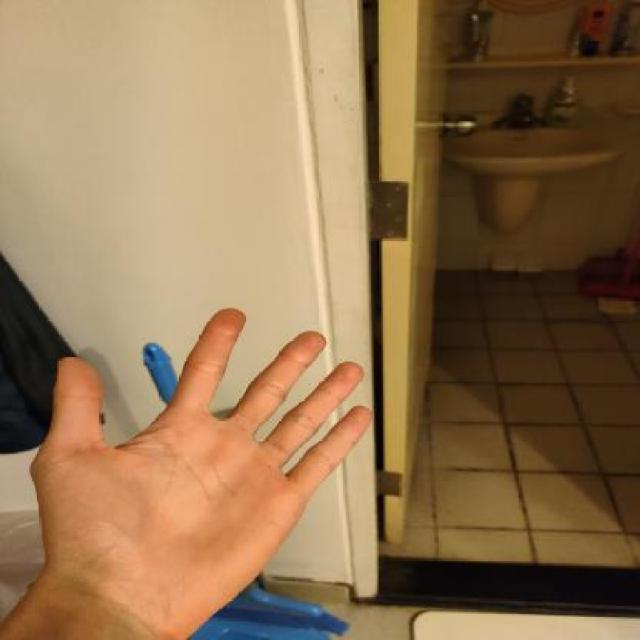bare_hand: (22, 298, 382, 632)
